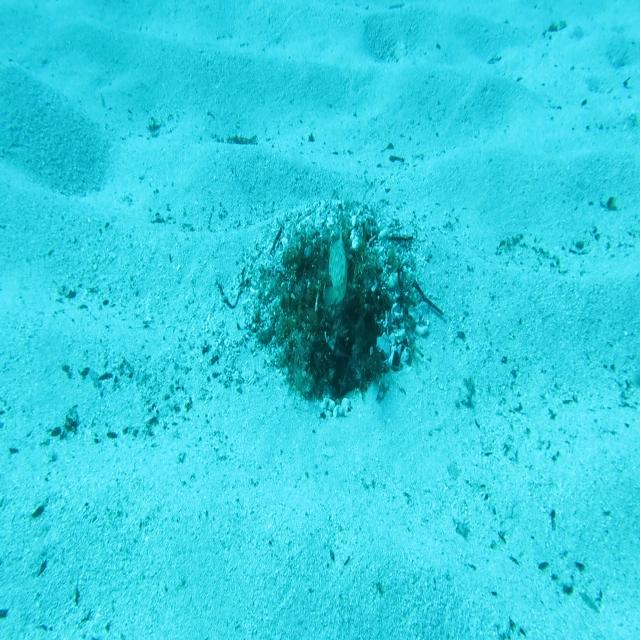NIP_CORE: (322, 225, 351, 309)
core_nest: (318, 239, 370, 291)
nest: (227, 193, 432, 425)
